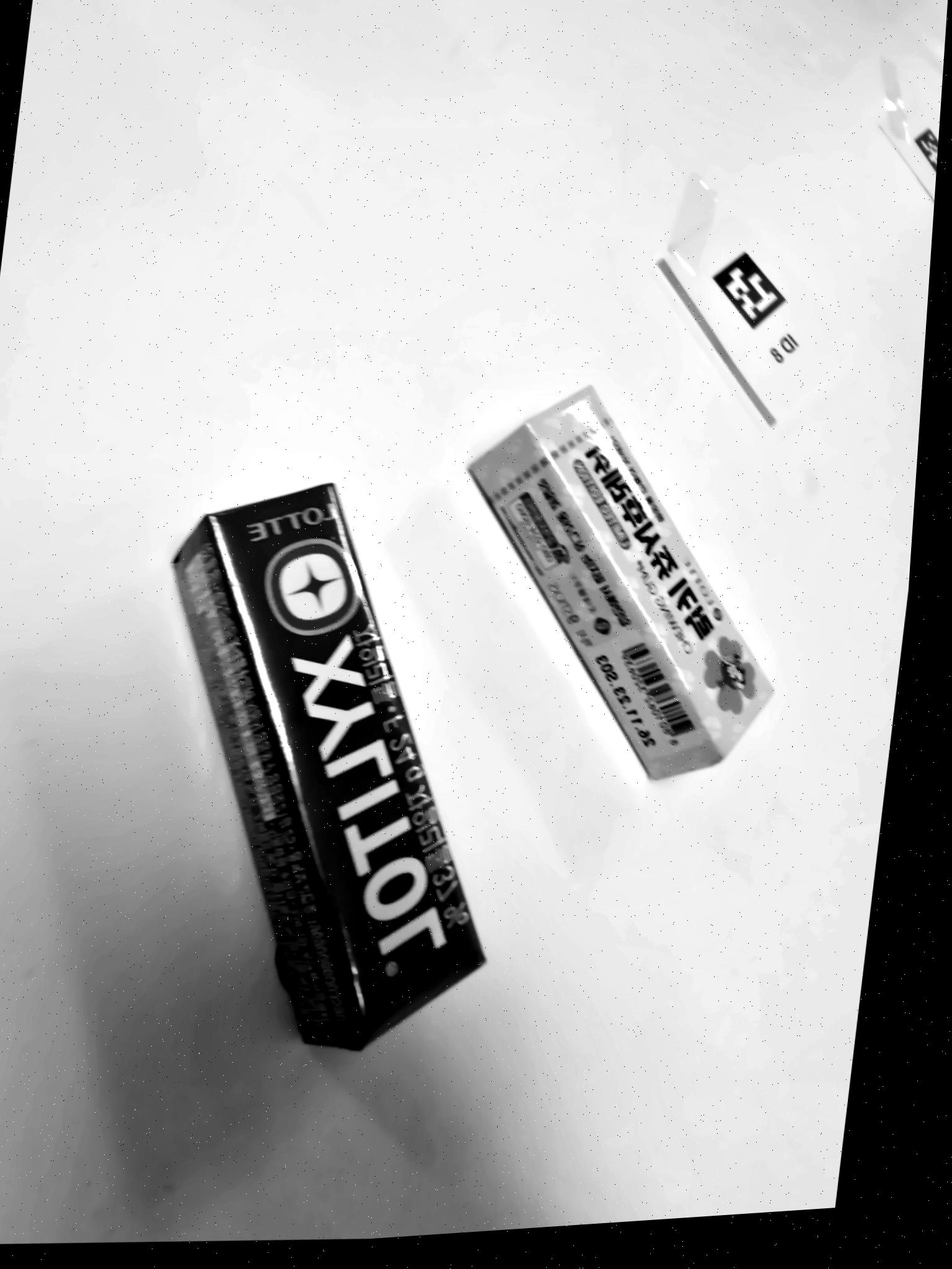gum_green: (174, 484, 484, 1049)
gum_yellow: (471, 387, 772, 779)
